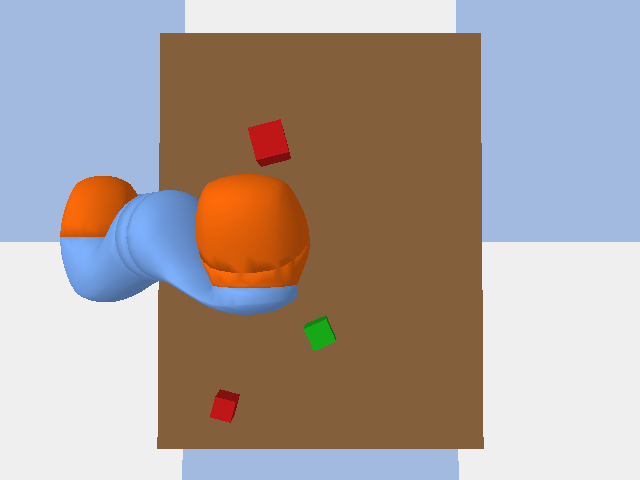green_obj: (304, 315, 335, 350)
red_obj: (248, 119, 290, 166), (210, 389, 239, 422)
